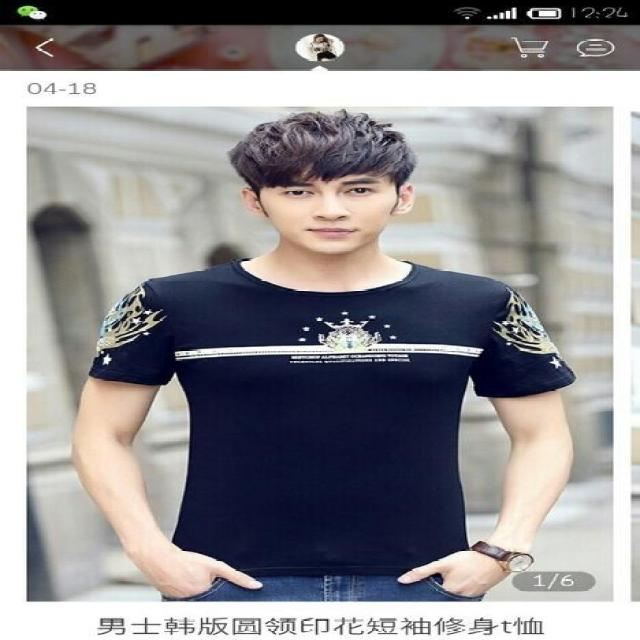short sleeve top: (89, 262, 576, 576)
